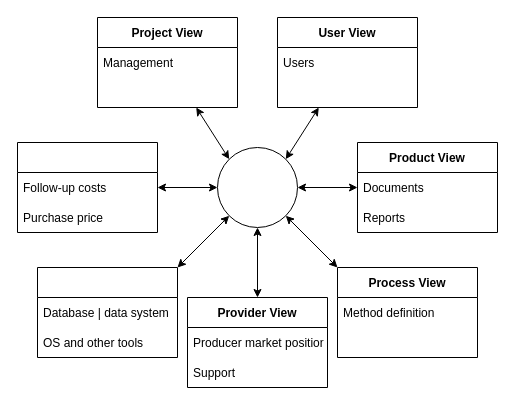
The diagram is 515 pixels wide and 405 high, and some of its shapes have lost their labels. Each missing label, with the box of its shape:
Economic View: (16, 142, 158, 232)
Technical View: (36, 266, 178, 358)
Tool: (216, 146, 298, 228)
